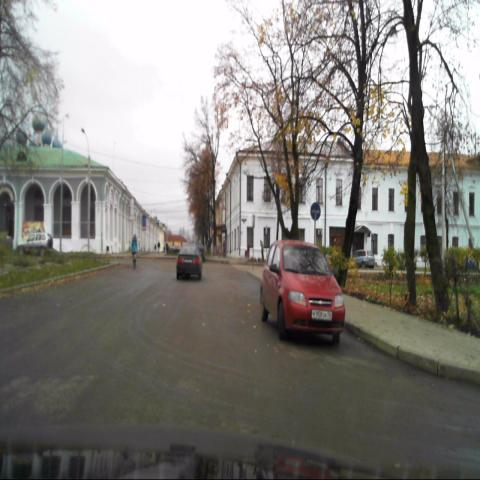4_1_6: (310, 200, 322, 222)
